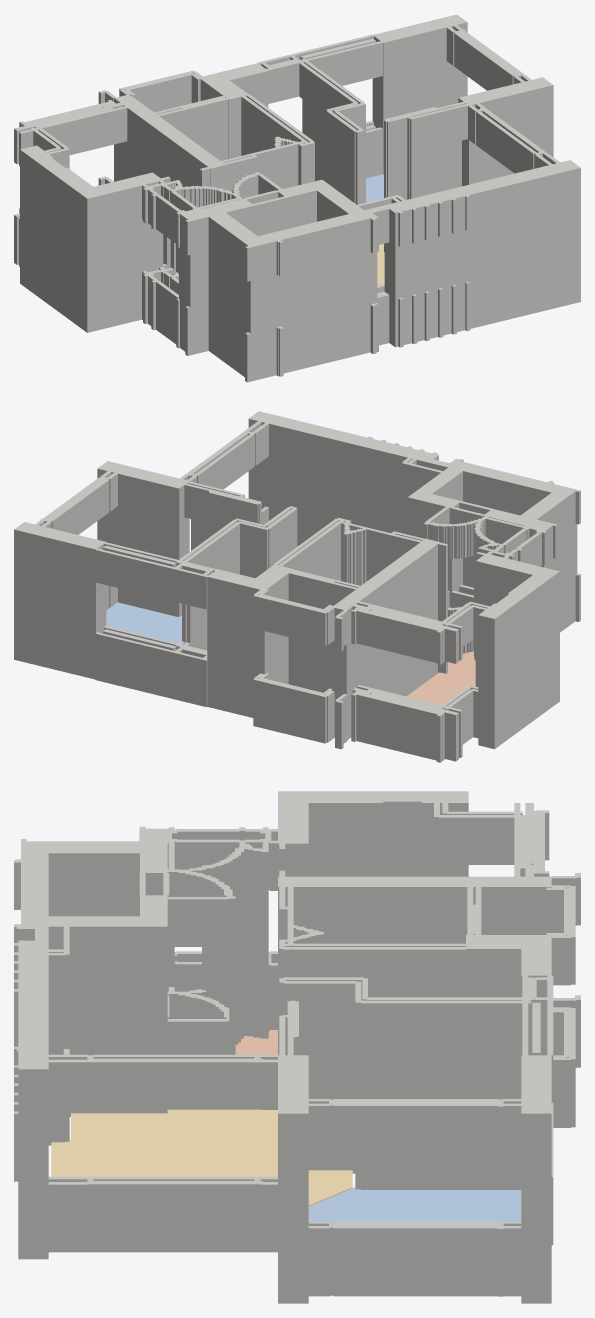
The picture shows the model from 3 angles, top to bottom: view 1: azimuth 30°, elevation 25°; view 2: azimuth 150°, elevation 25°; view 3: azimuth 270°, elevation 25°; orthographic projection. The views are drawn at different scales.
Parts seen in each view (by area): view 1: walls; view 2: walls, room:bedroom:2, room:kitchen:5; view 3: walls, room:living:4, room:bedroom:2, room:kitchen:5.
Boxes of the visible parts, left/top/right/bottom form: walls: left=14, top=14, right=580, bottom=382; walls: left=14, top=411, right=580, bottom=762; room:bedroom:2: left=106, top=602, right=181, bottom=643; room:kitchen:5: left=406, top=651, right=475, bottom=704; walls: left=14, top=791, right=580, bottom=1303; room:living:4: left=51, top=1109, right=352, bottom=1206; room:bedroom:2: left=308, top=1187, right=521, bottom=1221; room:kitchen:5: left=235, top=1029, right=277, bottom=1055.
Bounding box in the file's own units: 10.18 × 2.8 × 7.57.
